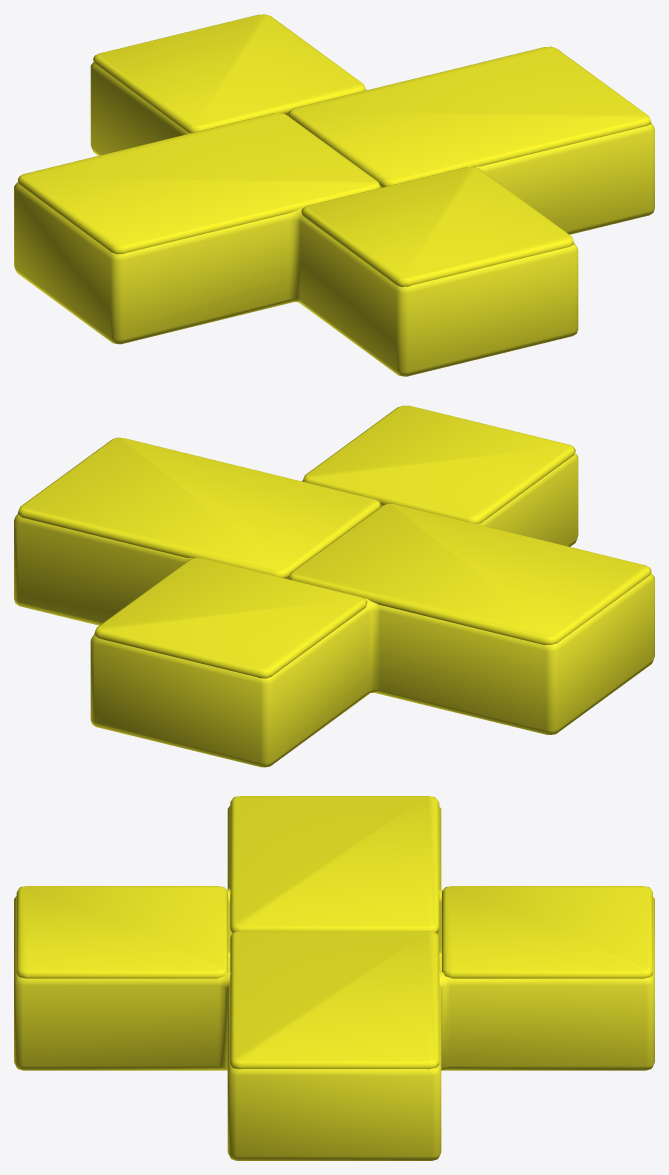
Rendered from Block-X-Yellow.fbx.
3 renders of one model, top to bottom at view 1: azimuth 30°, elevation 25°; view 2: azimuth 150°, elevation 25°; view 3: azimuth 270°, elevation 25°, orthographic. The views are drawn at different scales.
Parts seen in each view (by area): view 1: Cube.038, Block-X-Yellow; view 2: Cube.038, Block-X-Yellow; view 3: Cube.038, Block-X-Yellow.
Boxes of the visible parts, x1,y1,x2,y2 form: Cube.038: [18, 14, 651, 286]; Block-X-Yellow: [14, 62, 654, 376]; Cube.038: [18, 405, 651, 678]; Block-X-Yellow: [14, 452, 654, 767]; Cube.038: [16, 796, 652, 1069]; Block-X-Yellow: [14, 805, 654, 1160].
Bounding box in the file's own units: 300 × 51.89 × 300.
